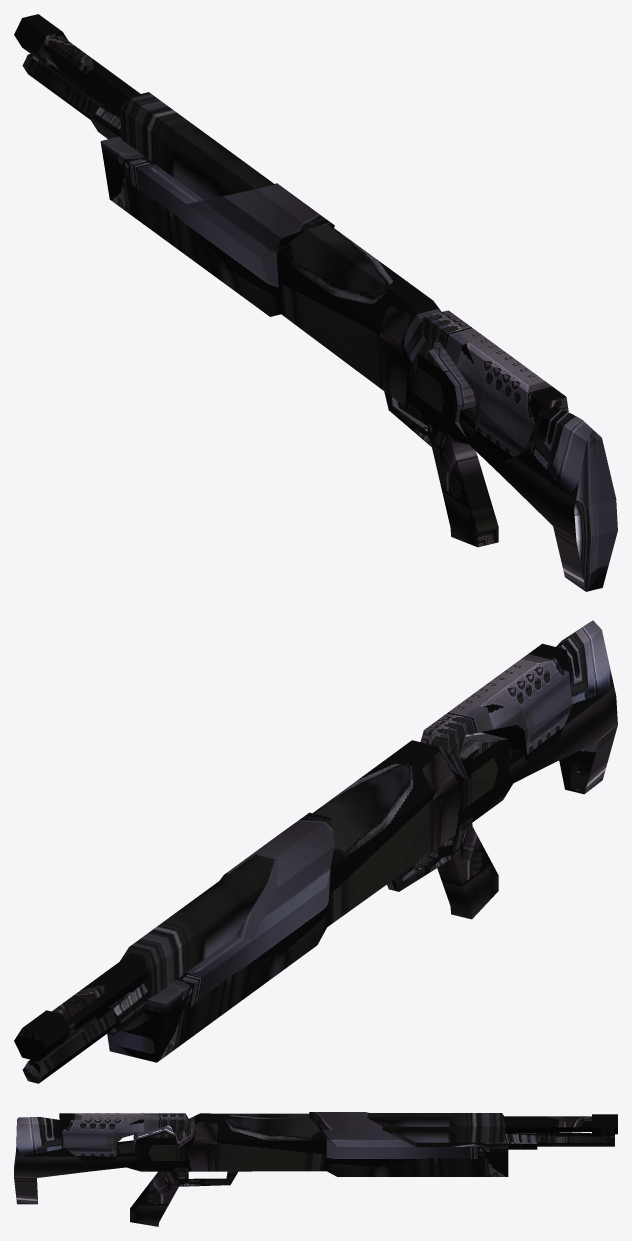
File: mp_shotgun.dae
The picture shows the model from 3 angles, top to bottom: view 1: azimuth 30°, elevation 25°; view 2: azimuth 150°, elevation 25°; view 3: azimuth 270°, elevation 25°; orthographic projection. The views are drawn at different scales.
Parts seen in each view (by area): view 1: ModelOK; view 2: ModelOK; view 3: ModelOK.
Part boxes in pixels (left/top/right/bottom): ModelOK: left=14, top=14, right=617, bottom=591; ModelOK: left=14, top=620, right=617, bottom=1083; ModelOK: left=14, top=1112, right=617, bottom=1226.
Bounding box in the file's own units: 7.26 × 109 × 21.71.
